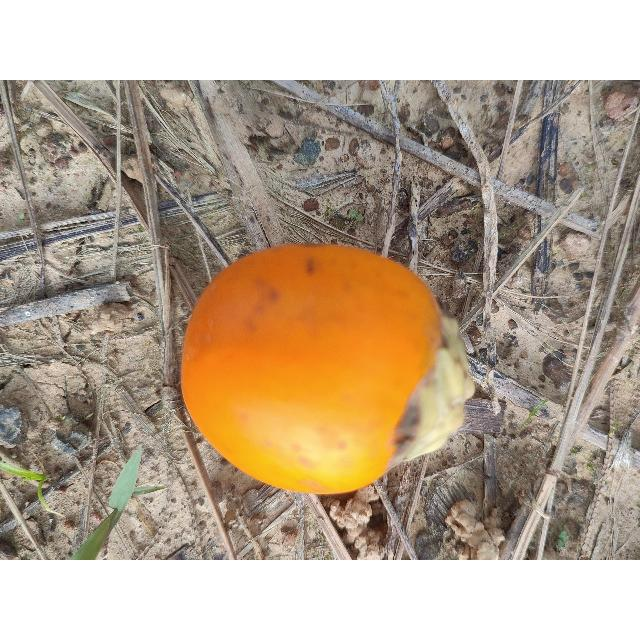good: (179, 245, 477, 497)
